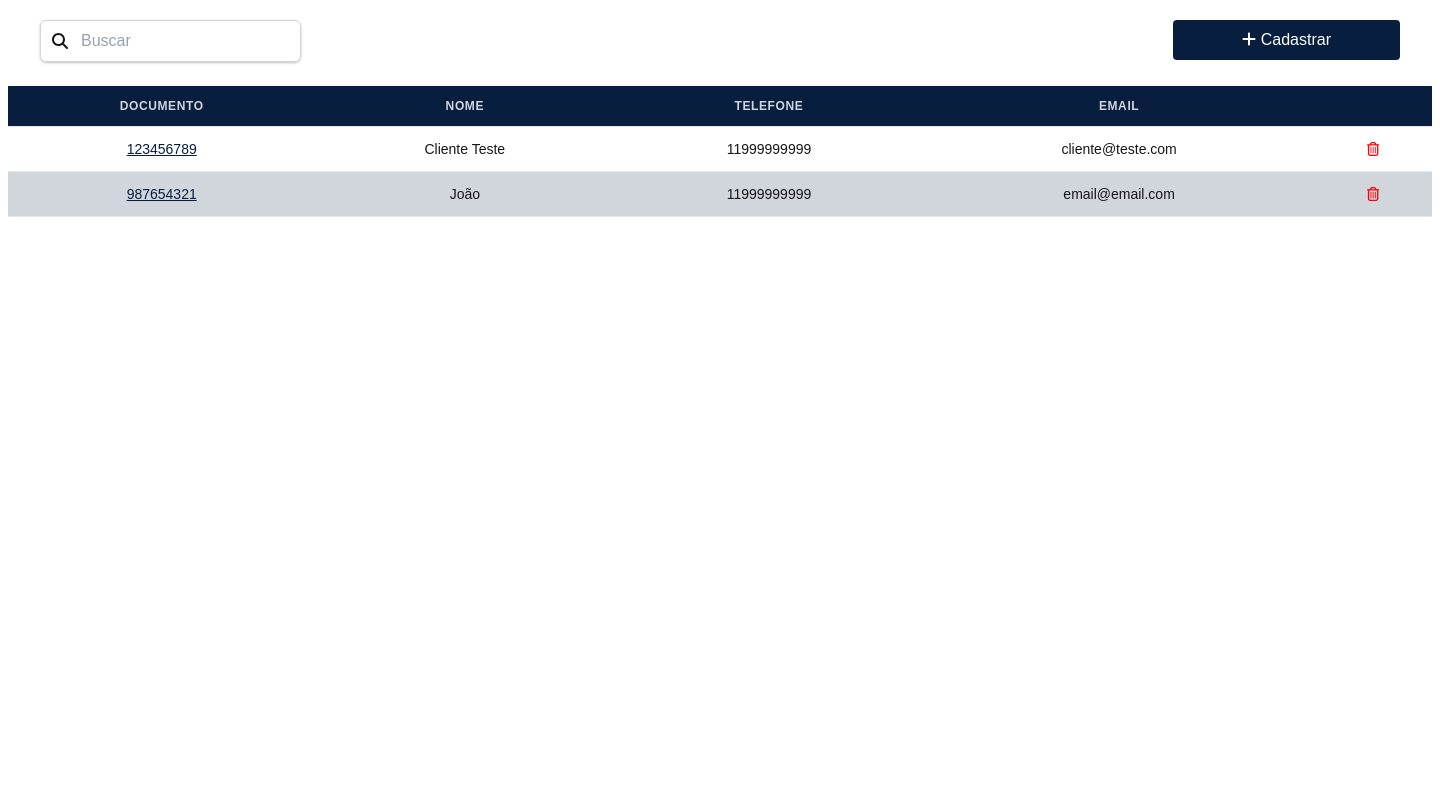
Test: ClientPage › deve cadastrar novo cliente
The width and height of the screenshot is (1440, 810).
expect the text "Cliente Teste" is shown: met, box left=315, top=126, right=614, bottom=172
Click the button at coordinates (1287, 40), box left=1173, top=20, right=1400, bottom=60
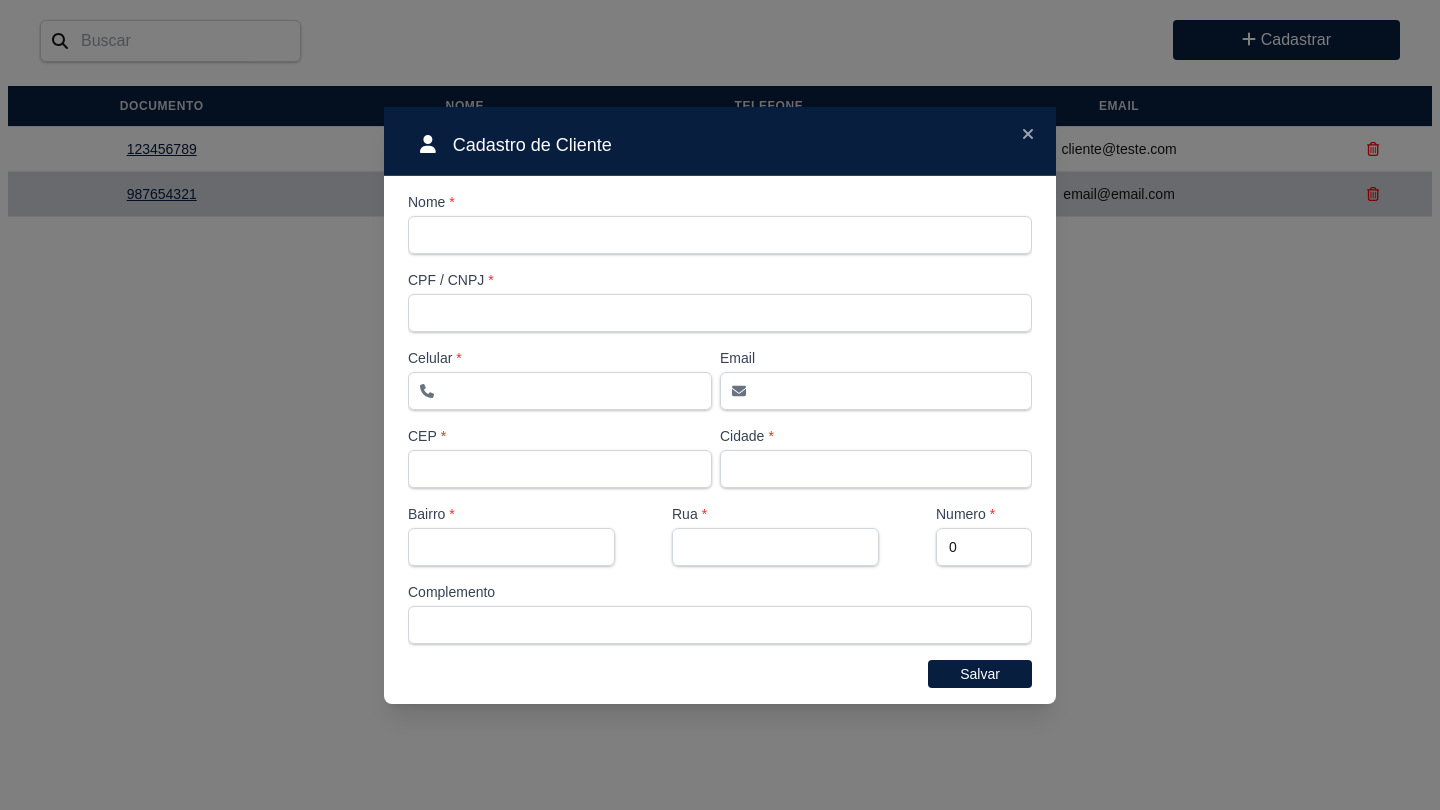
expect the field named "CPF / CNPJ *" is empty: met, box left=408, top=294, right=1032, bottom=332
expect the heading "Cadastro de Cliente" is shown: met, box left=420, top=134, right=612, bottom=154
expect the button "Salvar" is shown: met, box left=928, top=660, right=1032, bottom=688
